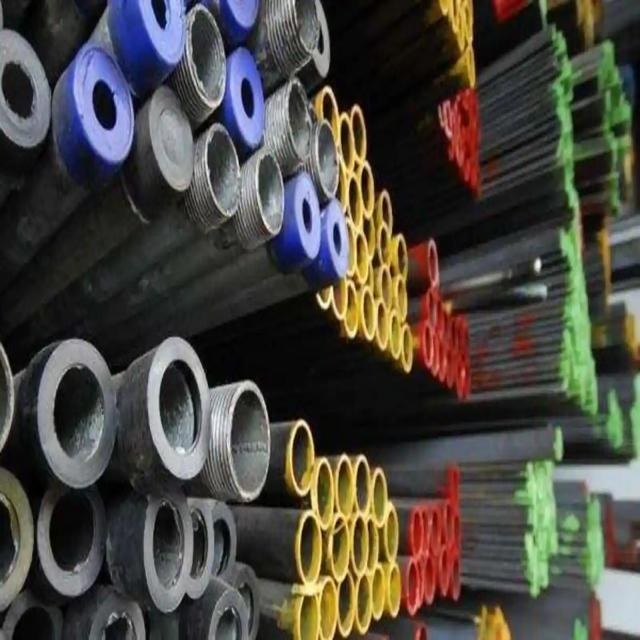pipe: (37, 338, 119, 487), (146, 336, 212, 481), (35, 481, 108, 598), (72, 41, 135, 166), (0, 27, 54, 155), (142, 487, 195, 616), (225, 377, 273, 502), (148, 83, 198, 193), (185, 3, 229, 111), (203, 120, 242, 218), (229, 47, 265, 148), (137, 1, 188, 67), (255, 146, 285, 238), (285, 77, 314, 165), (294, 173, 322, 259), (314, 120, 340, 199), (288, 419, 314, 496), (326, 198, 348, 281), (297, 514, 322, 587), (290, 0, 321, 57), (314, 456, 334, 529), (328, 514, 349, 582), (321, 85, 341, 146), (354, 572, 373, 635), (319, 578, 338, 640), (338, 574, 356, 637), (351, 515, 370, 574), (337, 457, 354, 521), (297, 593, 320, 640), (316, 1, 330, 71), (340, 112, 355, 176), (354, 455, 370, 515), (371, 469, 387, 527), (384, 503, 399, 562), (351, 106, 366, 163), (387, 561, 402, 618), (348, 175, 363, 231), (361, 288, 377, 340), (360, 163, 375, 218), (405, 558, 419, 615), (344, 283, 358, 335), (357, 230, 370, 285), (372, 568, 386, 619), (367, 517, 379, 574), (411, 509, 425, 556), (332, 276, 347, 317), (430, 509, 443, 555), (346, 219, 356, 277), (381, 191, 394, 235), (395, 236, 407, 283), (439, 547, 451, 594), (377, 225, 391, 264), (422, 319, 433, 367), (403, 323, 414, 370), (396, 277, 407, 323), (391, 312, 402, 358), (381, 268, 393, 310), (465, 45, 477, 87), (377, 304, 388, 348), (425, 556, 435, 604), (443, 504, 455, 544), (427, 241, 438, 284), (431, 334, 442, 377), (364, 220, 376, 259), (423, 509, 432, 556), (451, 558, 461, 600), (417, 560, 425, 608), (435, 301, 446, 334), (465, 2, 474, 40), (427, 291, 437, 325), (445, 350, 454, 387), (457, 10, 465, 49), (450, 0, 460, 29), (450, 319, 459, 349)
